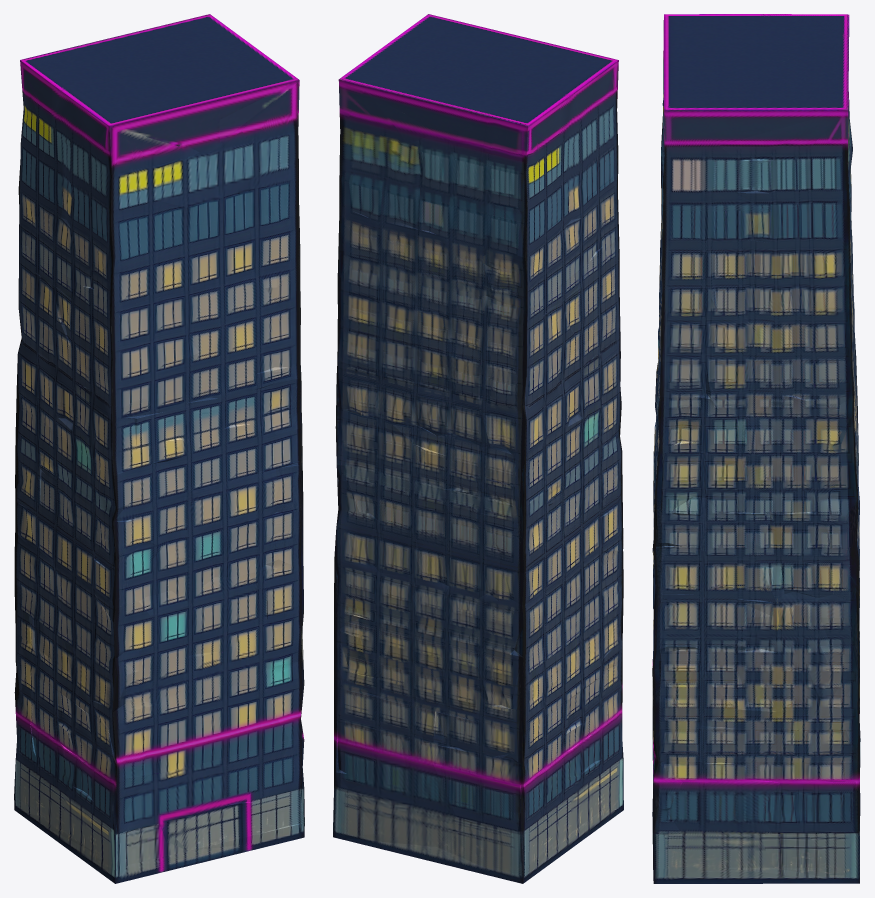
File: tower.glb
The picture shows the model from 3 angles, left to right: view 1: azimuth 30°, elevation 25°; view 2: azimuth 150°, elevation 25°; view 3: azimuth 270°, elevation 25°; orthographic projection. The views are drawn at different scales.
Size of the model in its own units: 0.5068 by 1.9 by 0.463.
Materials: 1 (1 with a texture image).
